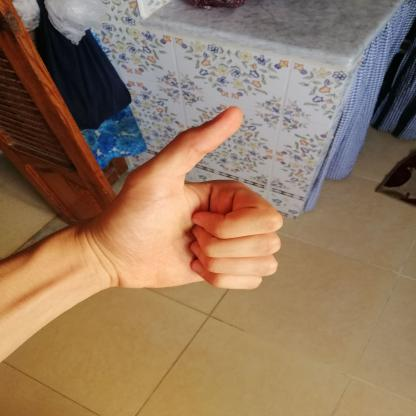ALIF: (64, 86, 312, 318)
